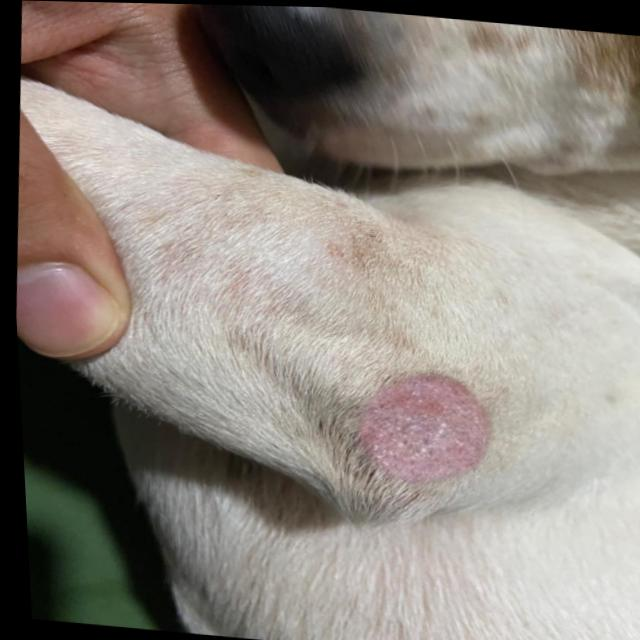ringworm: (332, 333, 518, 525)
